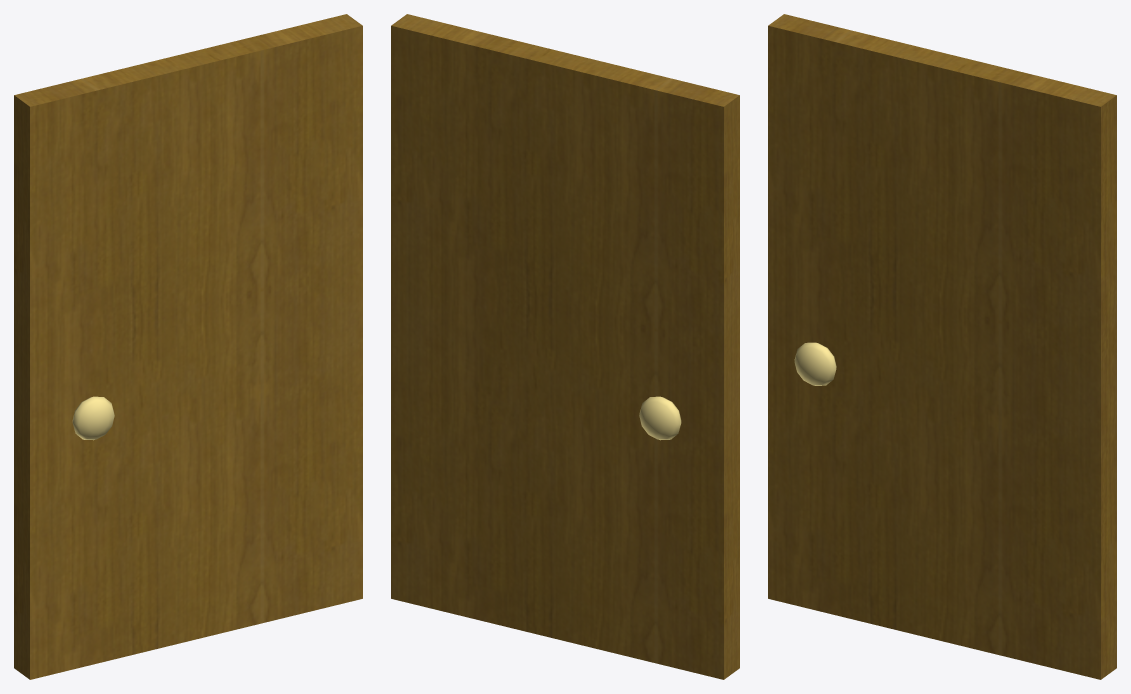
File: door.fbx
3 views of the same model, side by side, from view 1: azimuth 30°, elevation 25°; view 2: azimuth 150°, elevation 25°; view 3: azimuth 330°, elevation 25° (orthographic).
Parts seen in each view (by area): view 1: door, handle; view 2: door, handle; view 3: door, handle.
Boxes of the visible parts, x1,y1,x2,y2 form: door: (14, 14, 362, 679); handle: (72, 396, 114, 440); door: (391, 14, 739, 679); handle: (639, 396, 681, 440); door: (768, 14, 1116, 679); handle: (794, 342, 836, 385).
Bounding box in the file's own units: 6 × 9.88 × 1.38.
1 material, 1 textured.
